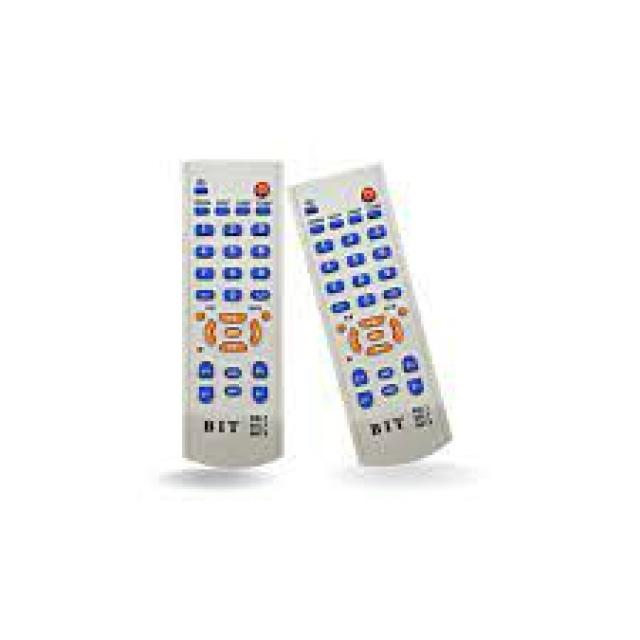remote: (283, 165, 457, 475), (178, 158, 288, 476)
